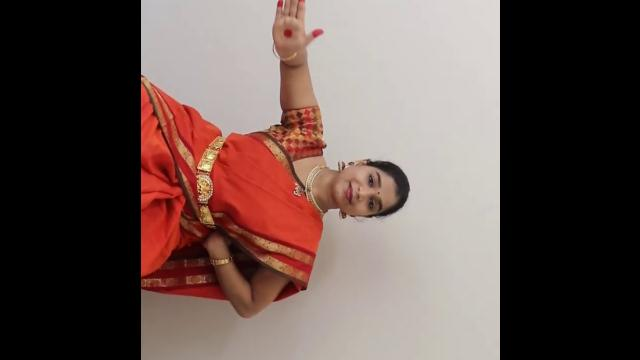ardhachandra: (248, 0, 337, 60)
